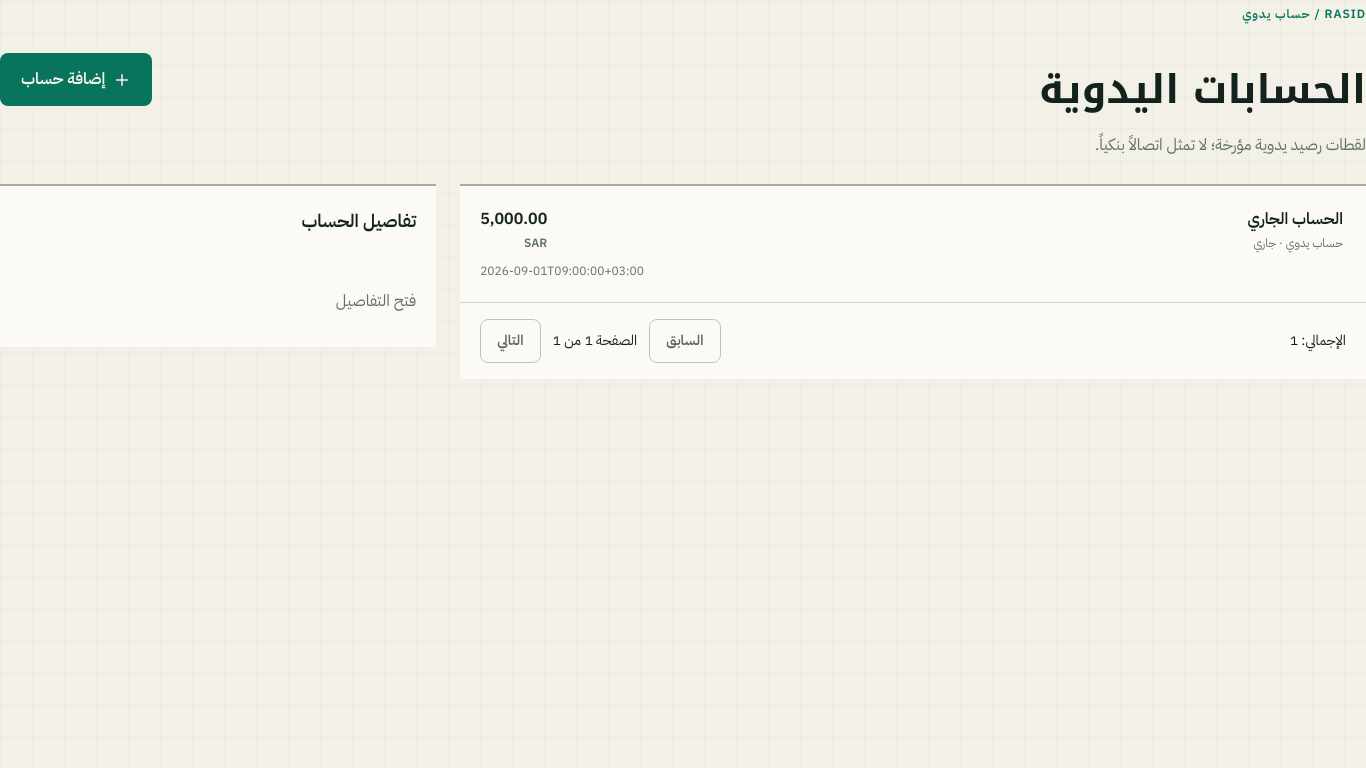
AccountsPage › shows a specific honest conflict while retaining the delete confirmation
Click the button "الحساب الجاري".
click(1295, 219)  # box [460,186,1365,302]
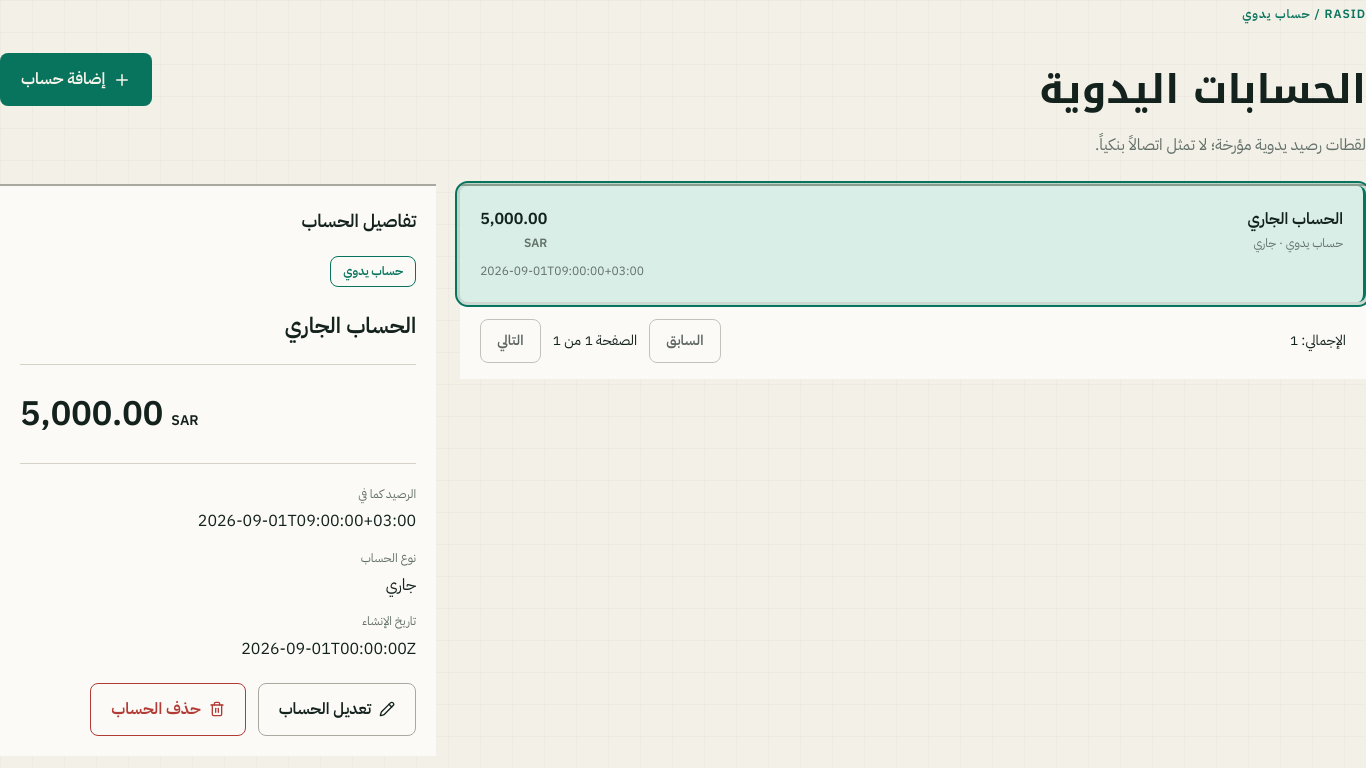
Click the button "حذف الحساب".
click(168, 709)  # box [90,683,246,736]
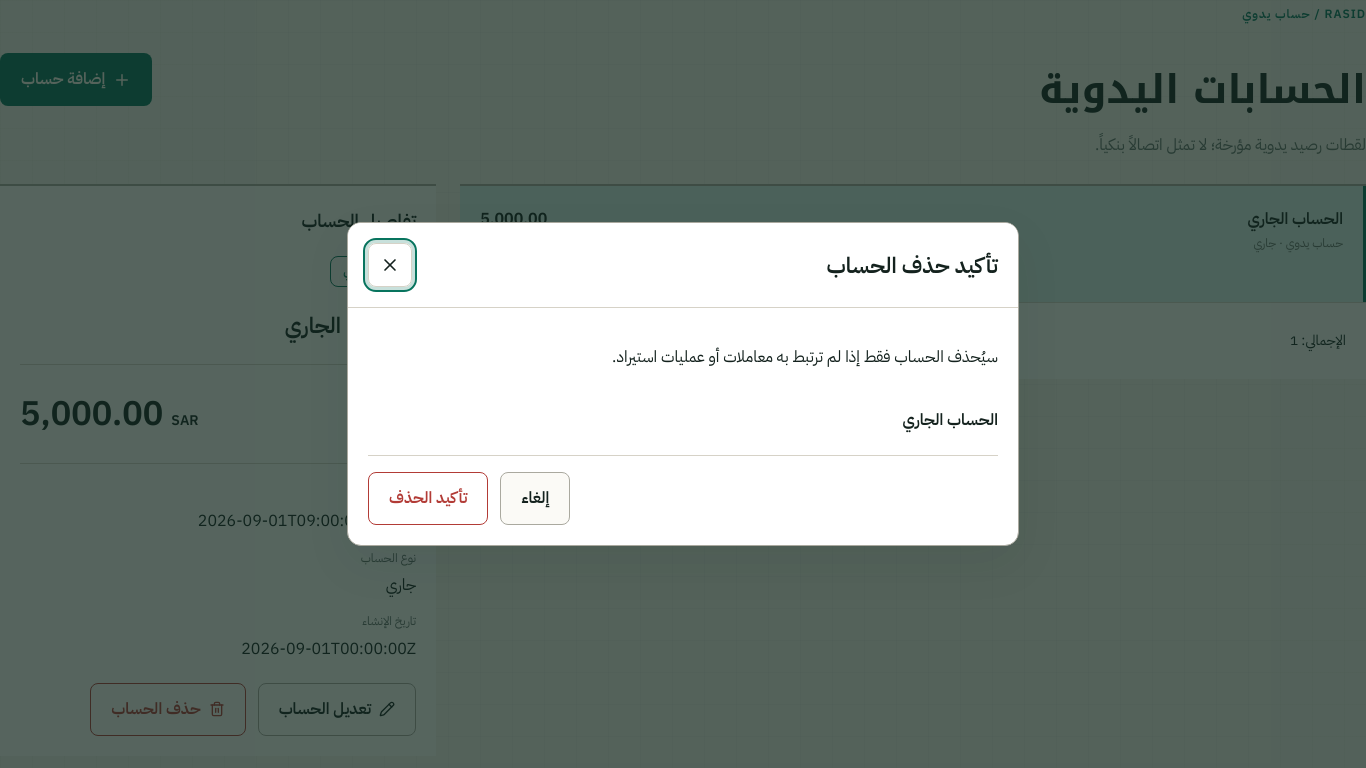
Click the button "تأكيد الحذف".
click(428, 498)  # box [368,472,488,525]
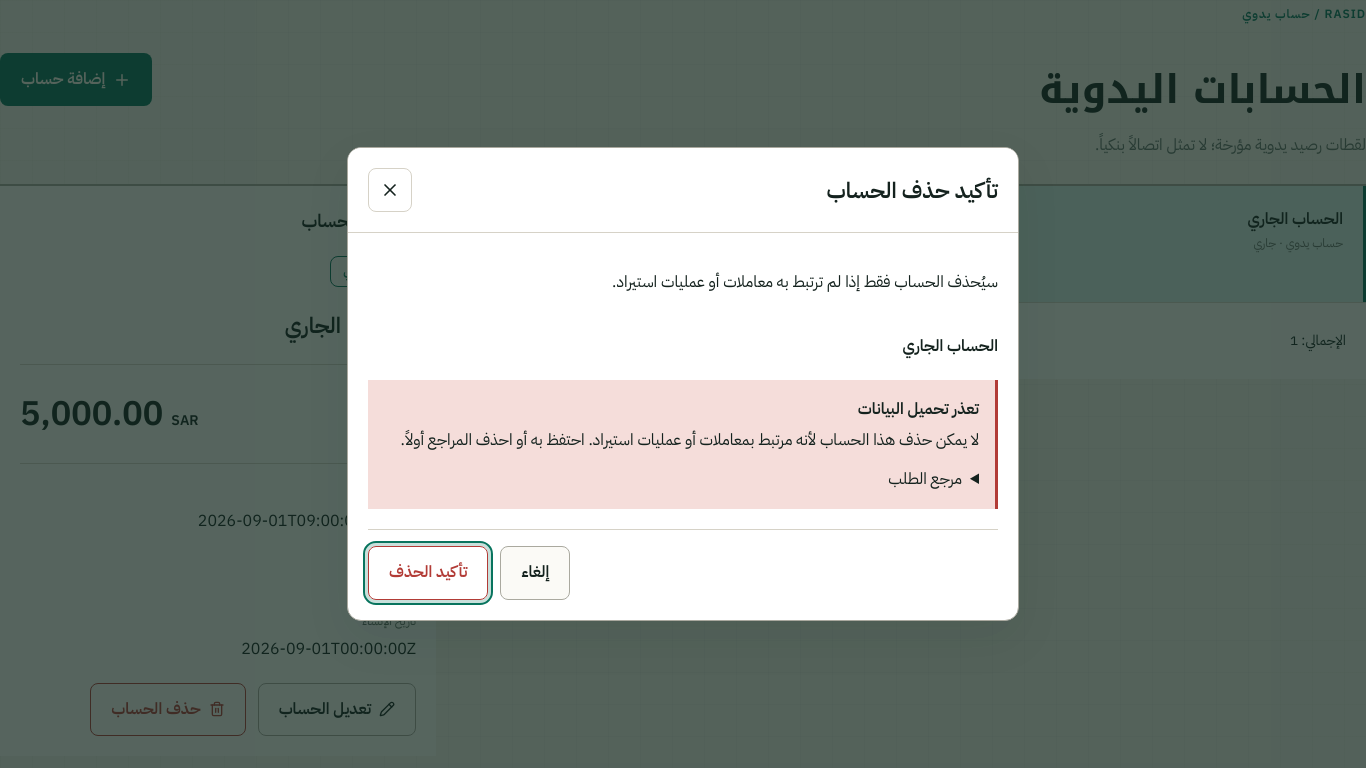
Expected: the dialog is shown, [347,147,1019,620]
Expected: the message shows "لا يمكن حذف هذا الحساب لأنه مرتبط بمعاملات أو عمليات استيراد", [400,428,979,452]
